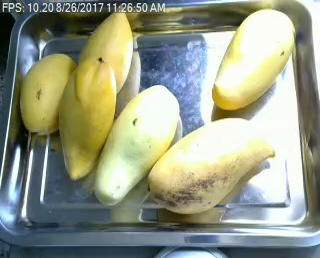Mango: (147, 116, 275, 213), (94, 83, 179, 207), (211, 7, 295, 111), (55, 56, 117, 179), (18, 52, 77, 136), (79, 6, 133, 91)
